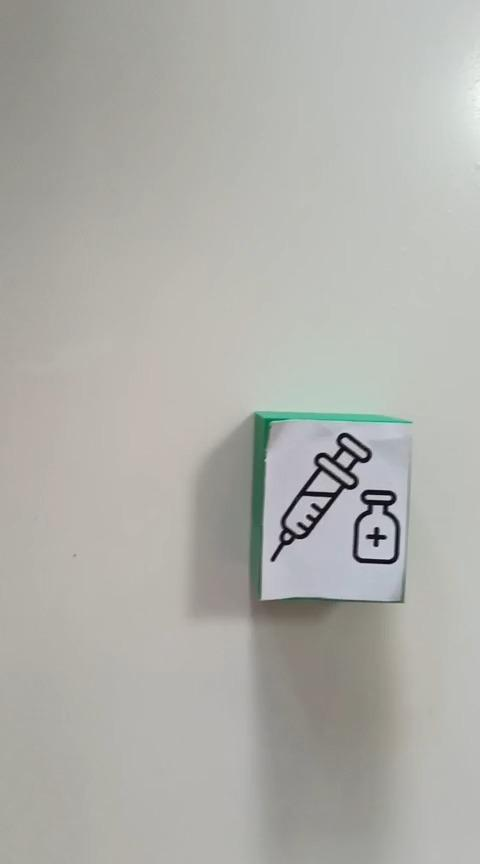antiseptic cream: (250, 410, 413, 603)
